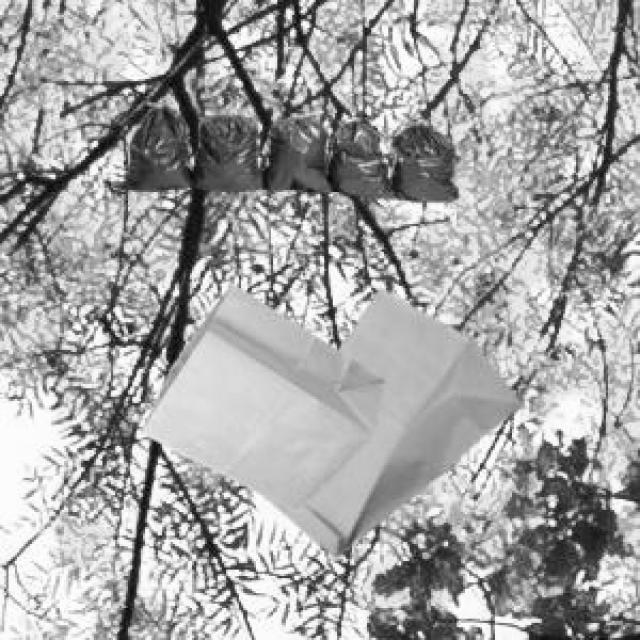miscellaneous trash: (109, 98, 454, 196)
paper: (269, 286, 516, 553), (139, 282, 380, 508)
